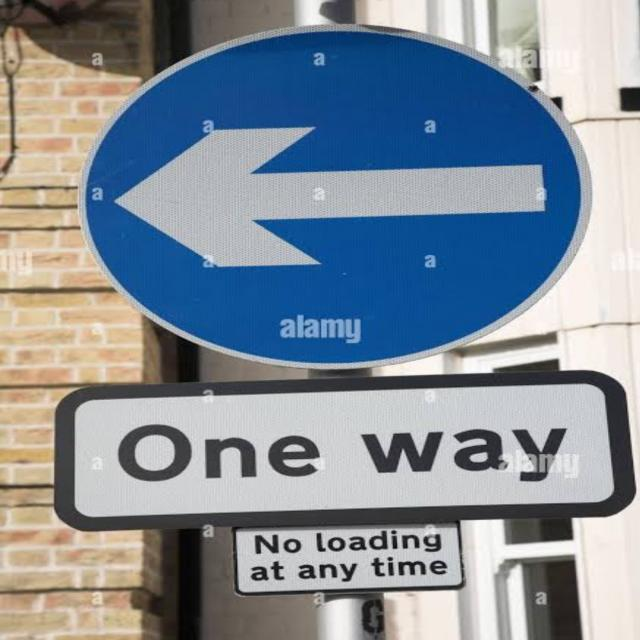Turn Left: (74, 33, 582, 364)
